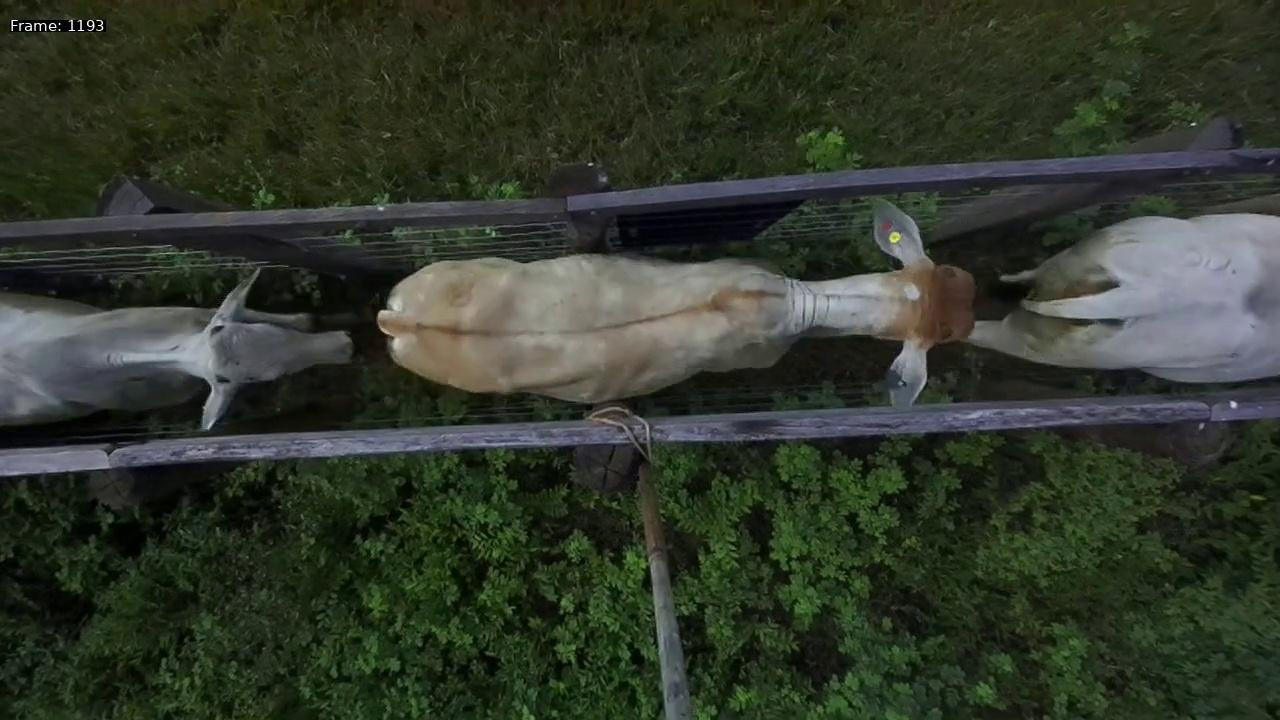cattle: (359, 182, 990, 417)
